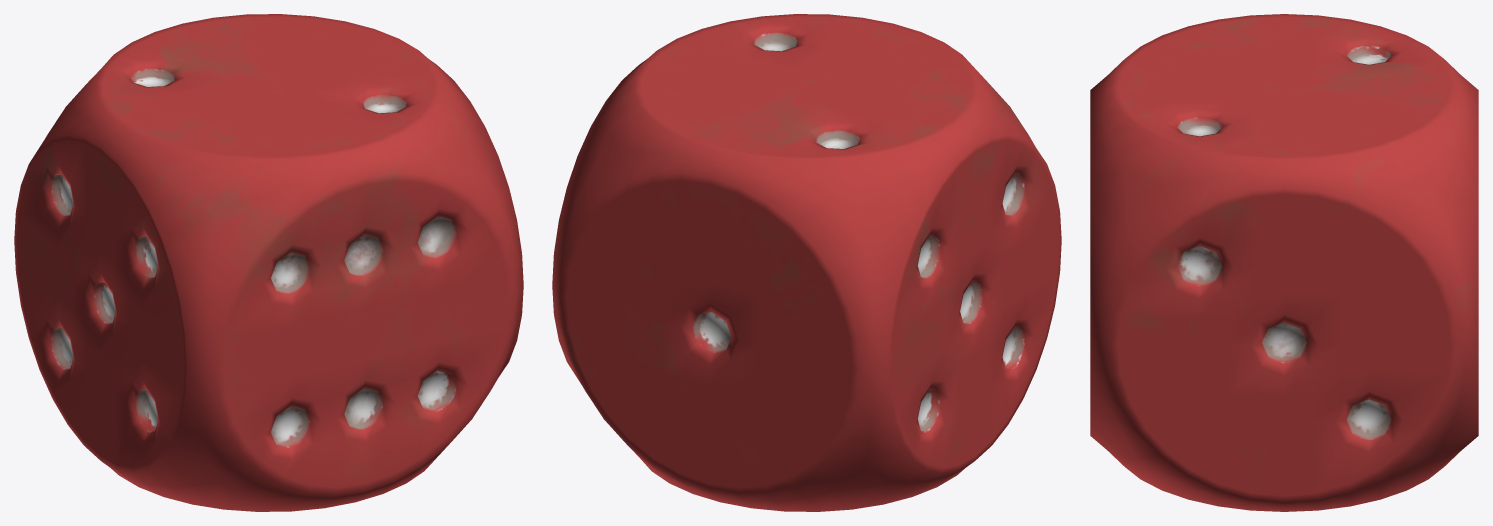
Rendered from diceCollada.dae.
3 views of the same model, side by side, from view 1: azimuth 30°, elevation 25°; view 2: azimuth 150°, elevation 25°; view 3: azimuth 270°, elevation 25° (orthographic).
Parts seen in each view (by area): view 1: Dice; view 2: Dice; view 3: Dice.
Boxes of the visible parts, x1,y1,x2,y2 form: Dice: [14, 14, 523, 511]; Dice: [552, 14, 1061, 511]; Dice: [1090, 14, 1478, 511].
Bounding box in the file's own units: 0.01 × 0.01 × 0.01.
1 material, 1 textured.
